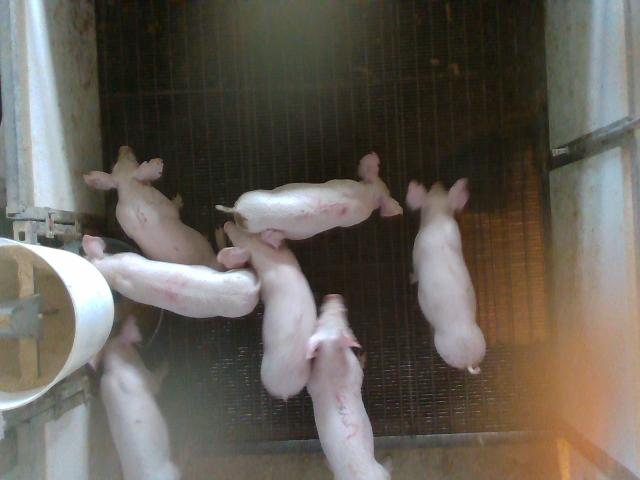pig-3: (306, 295, 390, 479)
pig-4: (82, 237, 260, 318)
pig-5: (216, 152, 402, 239)
